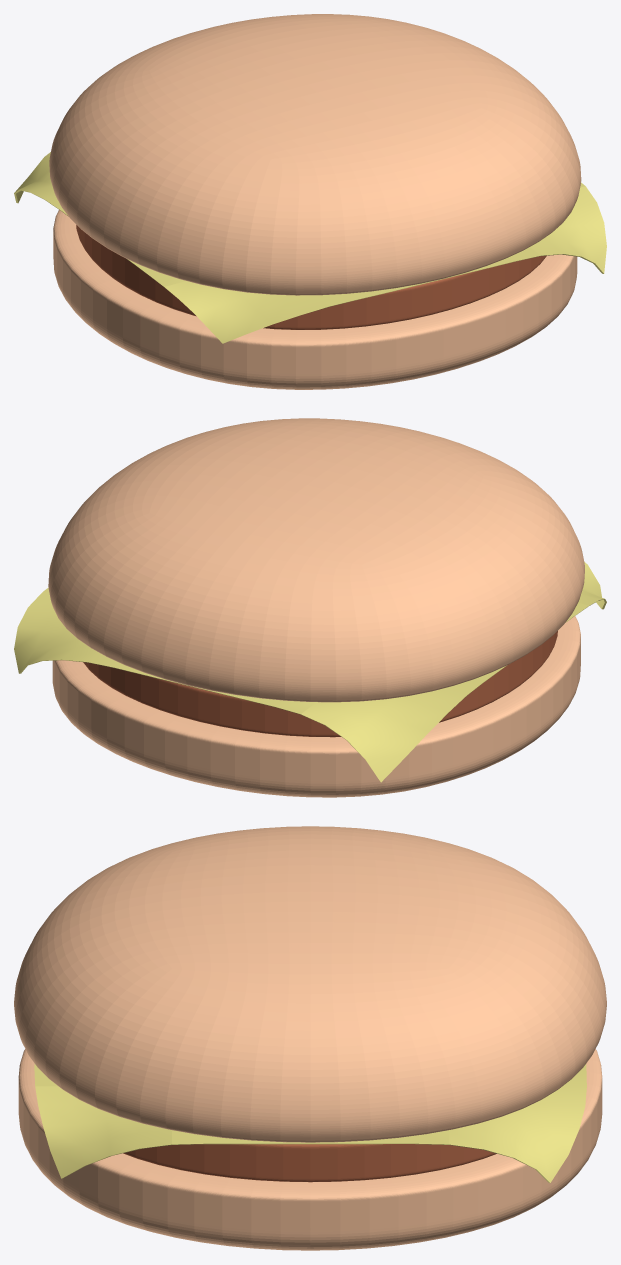
Rendered from hamburger.glb.
The picture shows the model from 3 angles, top to bottom: view 1: azimuth 30°, elevation 25°; view 2: azimuth 150°, elevation 25°; view 3: azimuth 270°, elevation 25°; orthographic projection. The views are drawn at different scales.
Parts seen in each view (by area): view 1: Top Bun, Bottom Bun, Cheese, Meat; view 2: Top Bun, Bottom Bun, Cheese, Meat; view 3: Top Bun, Bottom Bun, Cheese, Meat.
Part boxes in pixels (box(x1,y1,x2,y2)): Top Bun: box(49, 14, 581, 295); Bottom Bun: box(53, 210, 577, 389); Cheese: box(14, 152, 606, 343); Meat: box(76, 225, 546, 329); Top Bun: box(48, 418, 584, 702); Bottom Bun: box(52, 616, 580, 797); Cheese: box(14, 562, 606, 782); Meat: box(83, 631, 557, 737); Top Bun: box(14, 826, 606, 1142); Bottom Bun: box(18, 1049, 602, 1250); Cheese: box(34, 1064, 586, 1182); Meat: box(123, 1144, 496, 1182).
Bounding box in the file's own units: 9.31 × 4.6 × 9.31.
